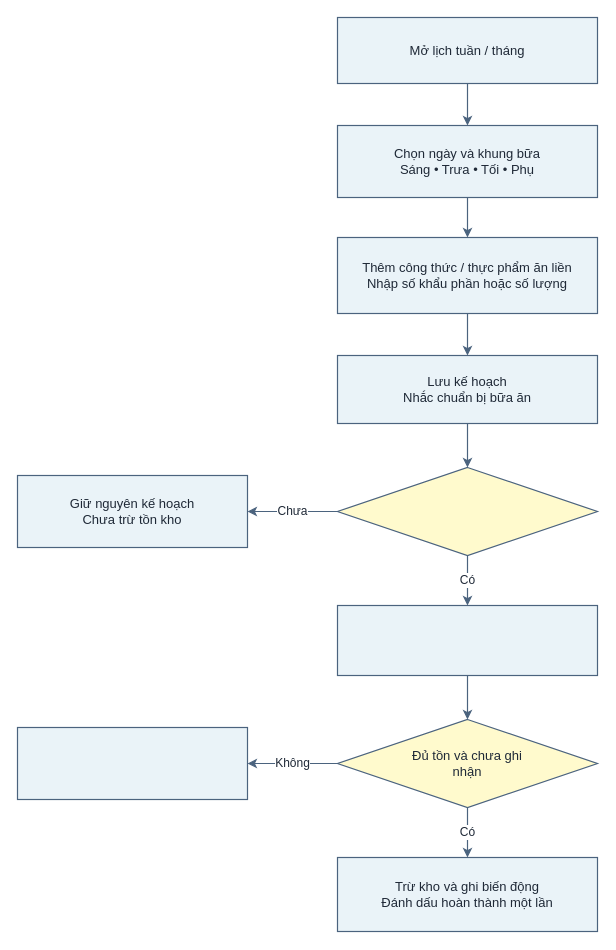
This 616x950 diagram has some shape labels left out. Here are the shapes that lost their labels. From the top down, the box of each, then its label:
(336, 466, 598, 556): Xác nhận đã ăn xong
(336, 604, 598, 676): Kiểm tra lượng thực tế và tồn kho còn dùng được
(16, 726, 248, 800): Thông báo thiếu tồn hoặc bữa ăn đã hoàn thành
